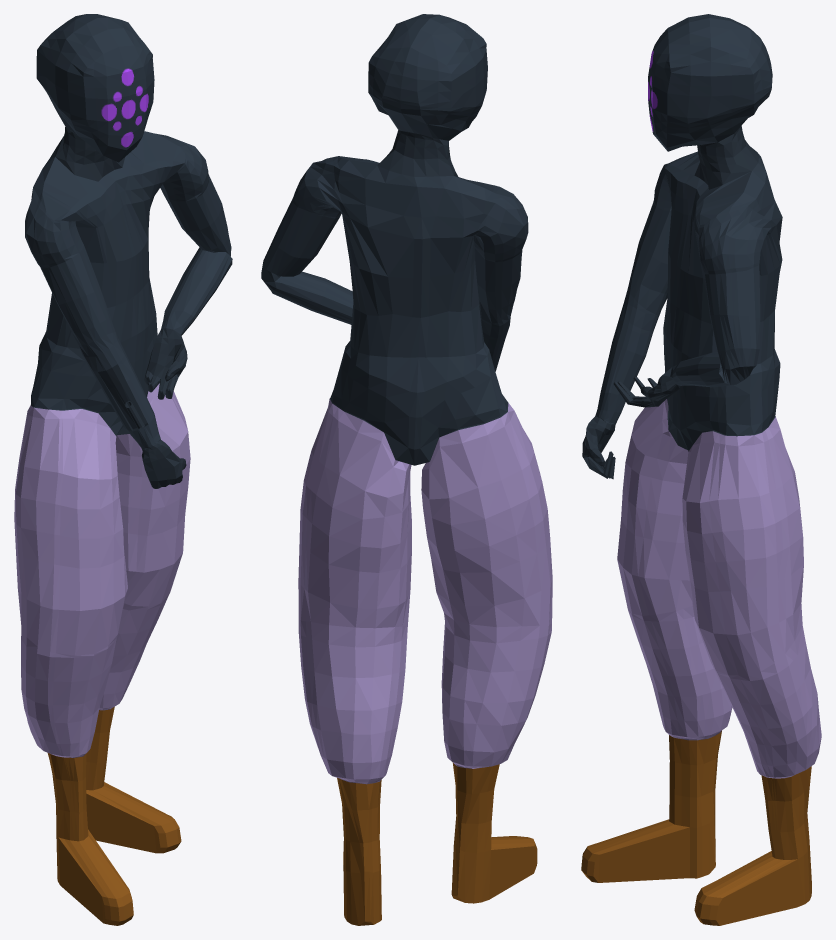
File: Oracle_WF_000001.obj
3 renders of one model, left to right at view 1: azimuth 30°, elevation 25°; view 2: azimuth 150°, elevation 25°; view 3: azimuth 270°, elevation 25°, orthographic. The views are drawn at different scales.
Parts seen in each view (by area): view 1: Cube; view 2: Cube; view 3: Cube.
Part boxes in pixels (x1,y1,x2,y2): Cube: (14, 14, 232, 925); Cube: (261, 14, 552, 925); Cube: (581, 14, 821, 925).
Size of the model in its own units: 1.15 by 3.94 by 0.9803.
